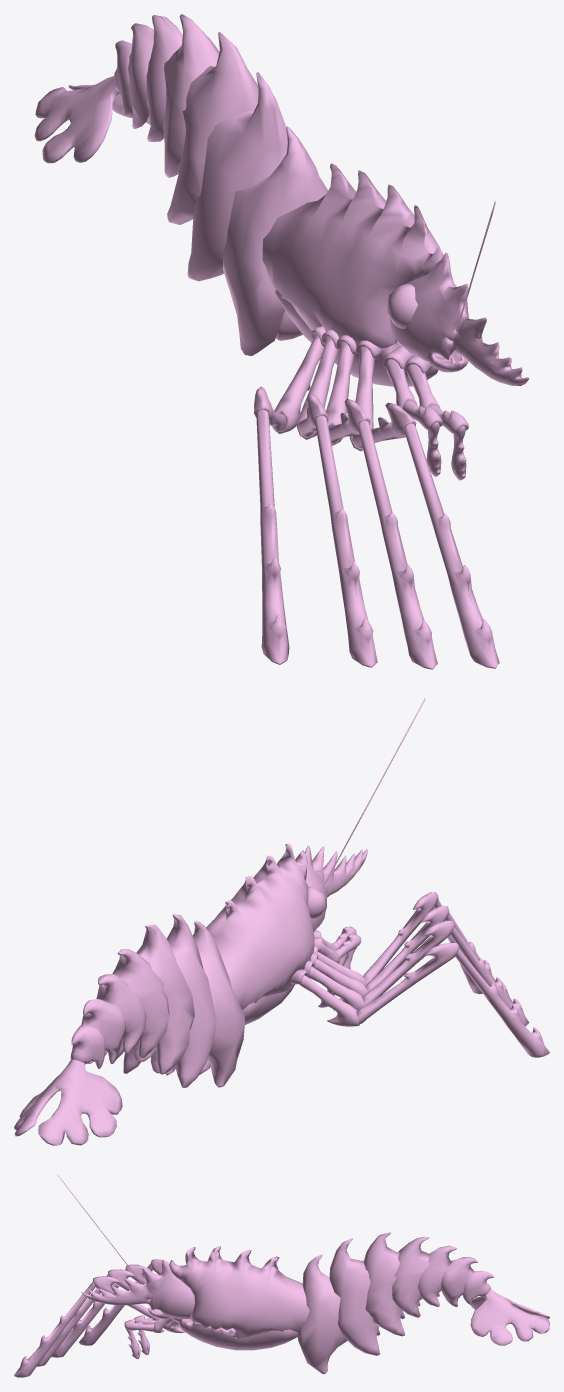
File: TESTING_ONLY_R_ANylon.fbx
The picture shows the model from 3 angles, top to bottom: view 1: azimuth 30°, elevation 25°; view 2: azimuth 150°, elevation 25°; view 3: azimuth 270°, elevation 25°; orthographic projection. The views are drawn at different scales.
Parts seen in each view (by area): view 1: Back_low.001; view 2: Back_low.001; view 3: Back_low.001.
Part boxes in pixels (<box>): Back_low.001: <box>34,14,529,669</box>; Back_low.001: <box>14,698,549,1145</box>; Back_low.001: <box>14,1174,549,1377</box>.
Size of the model in its own units: 104 by 134 by 302.
